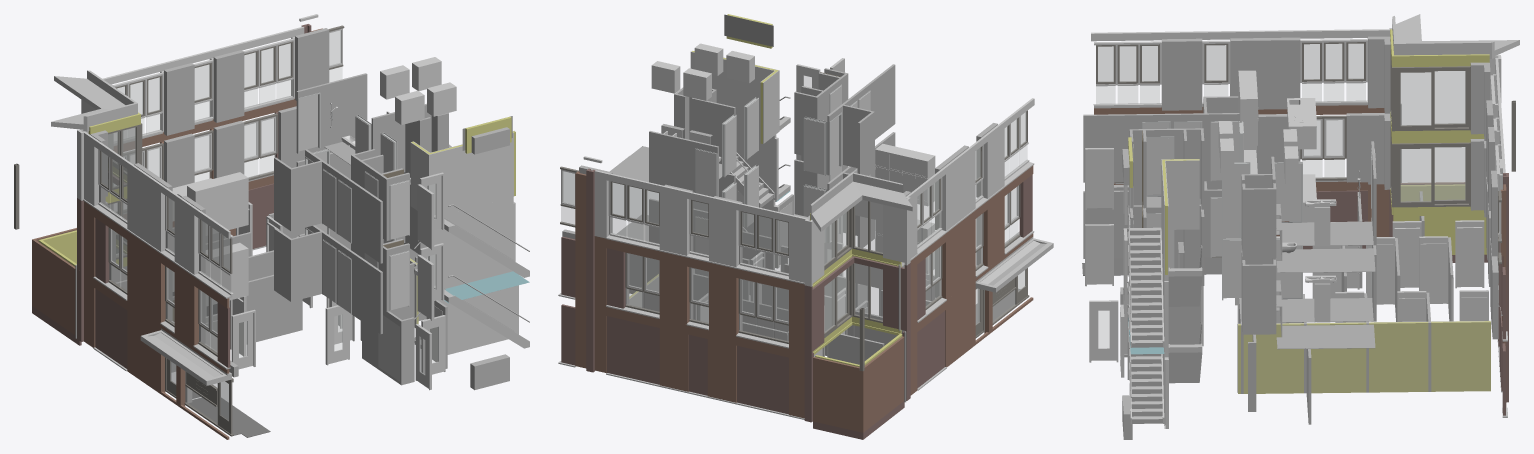
The picture shows the model from 3 angles, left to right: view 1: azimuth 30°, elevation 25°; view 2: azimuth 150°, elevation 25°; view 3: azimuth 270°, elevation 25°; orthographic projection. The views are drawn at different scales.
Bounding box in the file's own units: 15.55 × 11.19 × 15.6.
